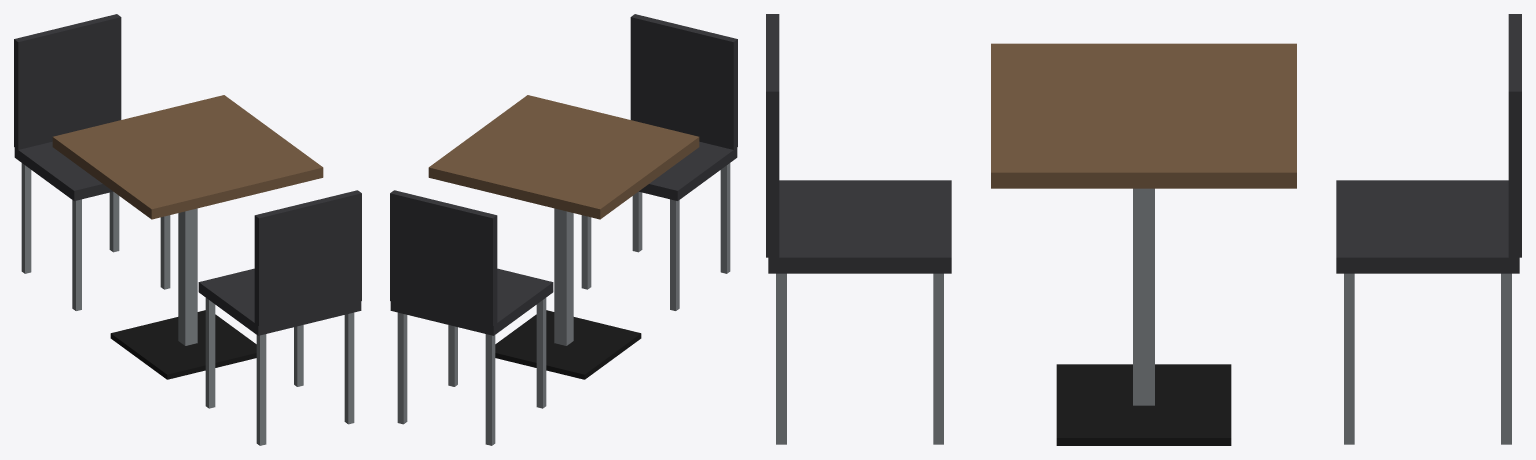
File: cafe_table_2.glb
3 renders of one model, left to right at view 1: azimuth 30°, elevation 25°; view 2: azimuth 150°, elevation 25°; view 3: azimuth 270°, elevation 25°, orthographic. The views are drawn at different scales.
Parts seen in each view (by area): view 1: cafe_table_2; view 2: cafe_table_2; view 3: cafe_table_2.
Boxes of the visible parts, box(x1,y1,x2,y2) form: cafe_table_2: box(14, 14, 361, 445); cafe_table_2: box(390, 14, 737, 445); cafe_table_2: box(766, 14, 1521, 445).
Size of the model in its own units: 0.7 by 0.9 by 1.73.
